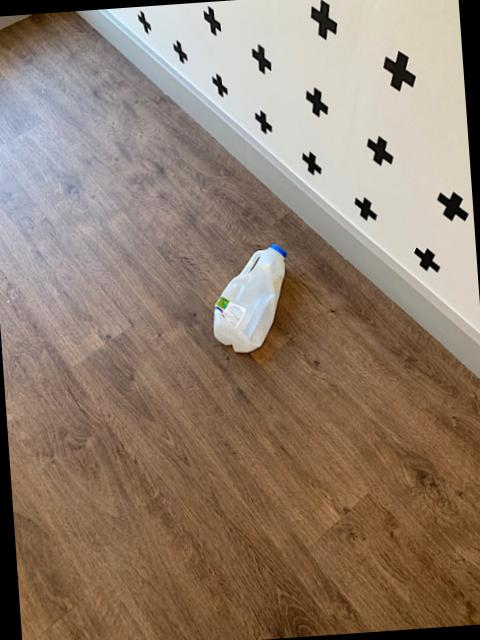plastic: (214, 243, 286, 350)
